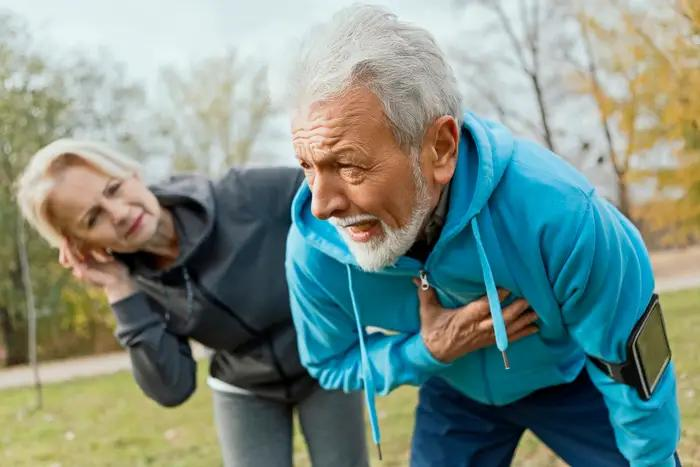pain: (290, 142, 390, 186)
